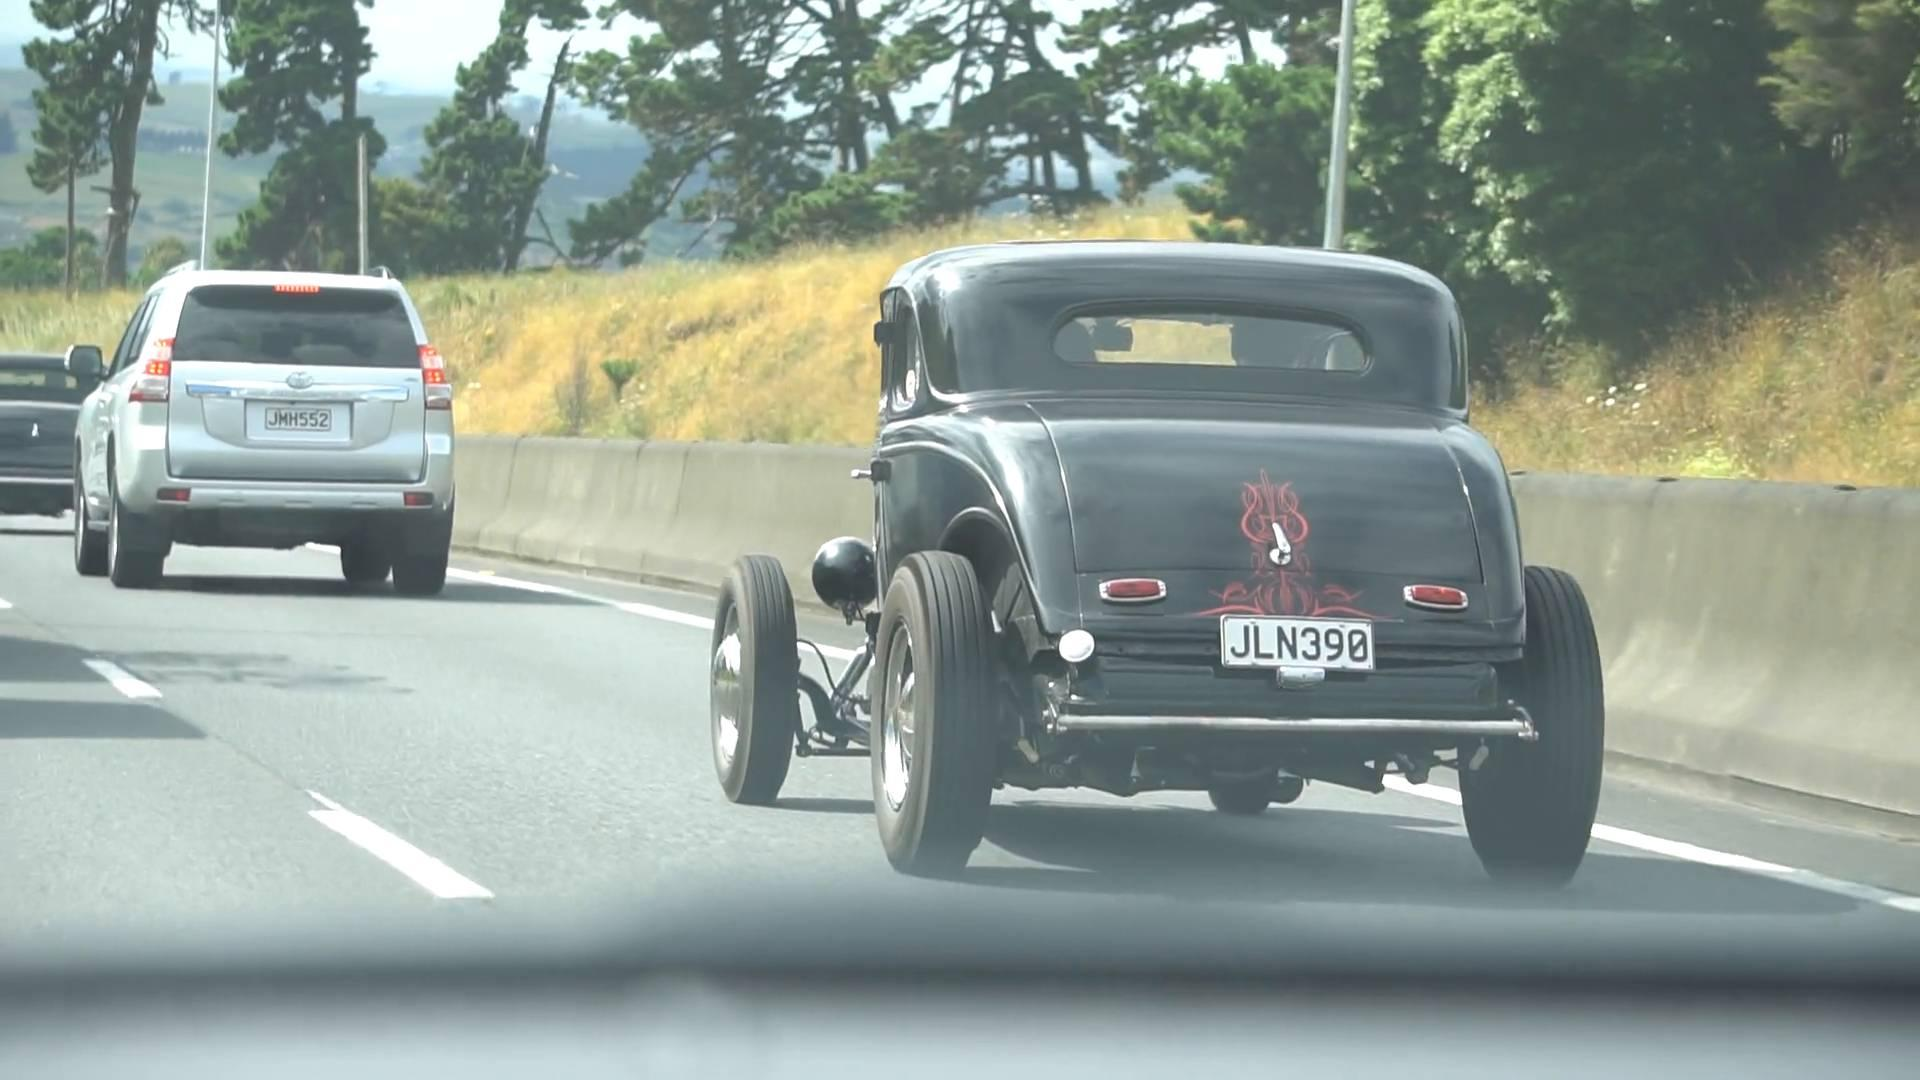car: (701, 231, 1604, 885), (56, 259, 460, 590)
license_plate: (1222, 611, 1371, 671), (263, 402, 335, 434)
